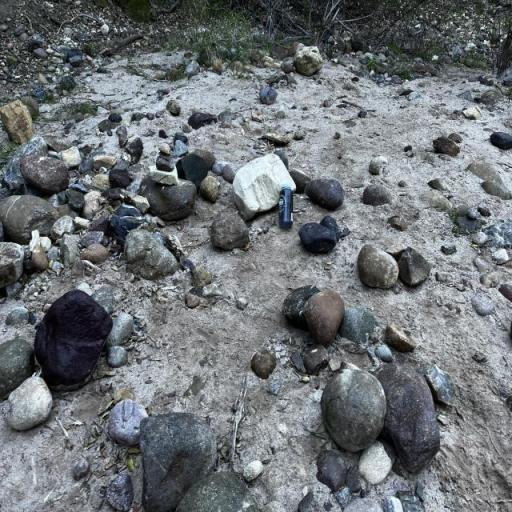bottle: (276, 182, 294, 230)
